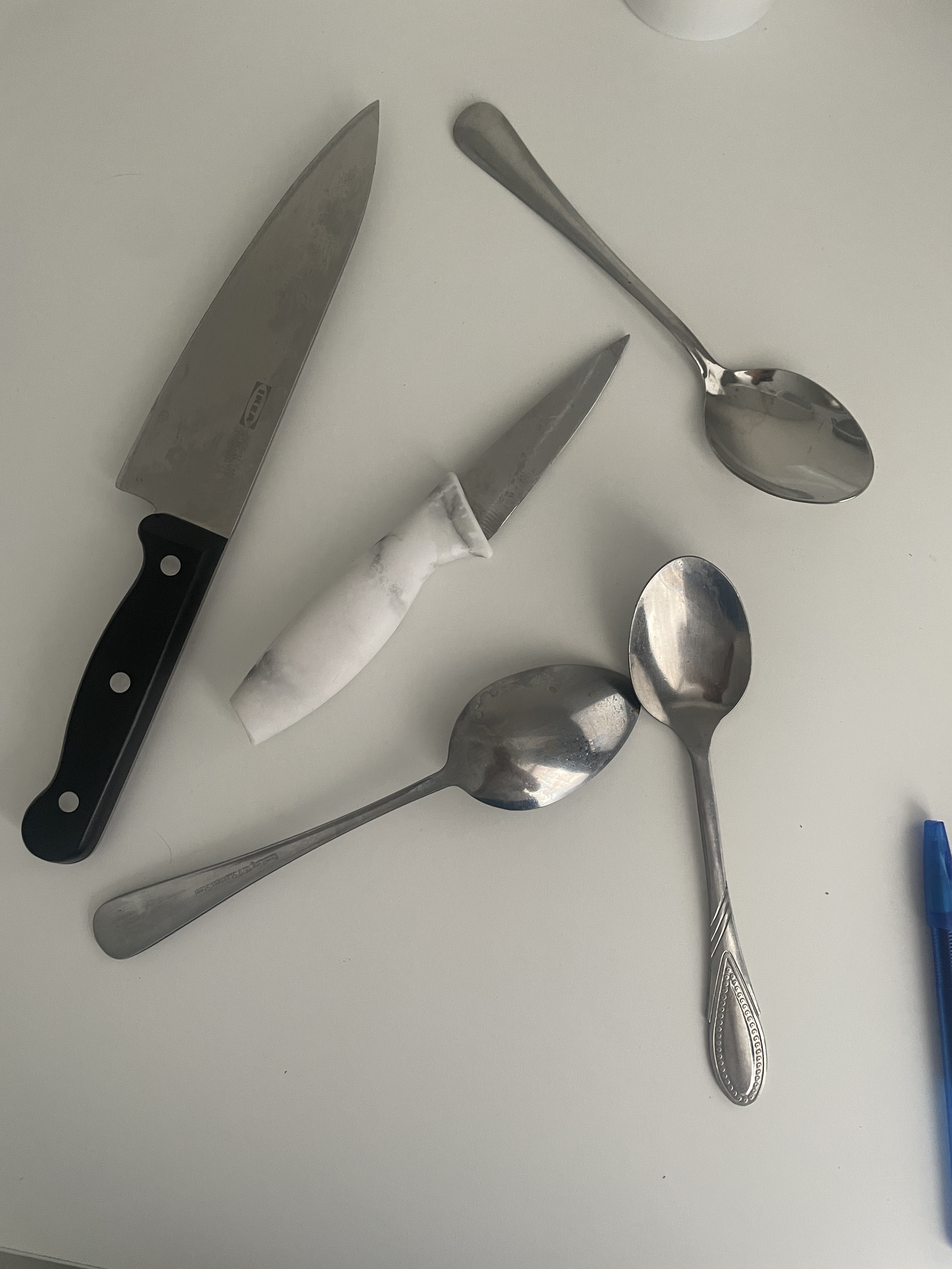knife: (22, 102, 379, 863), (231, 337, 628, 744)
spoon: (453, 102, 874, 504), (93, 665, 640, 959), (629, 557, 766, 1105)
